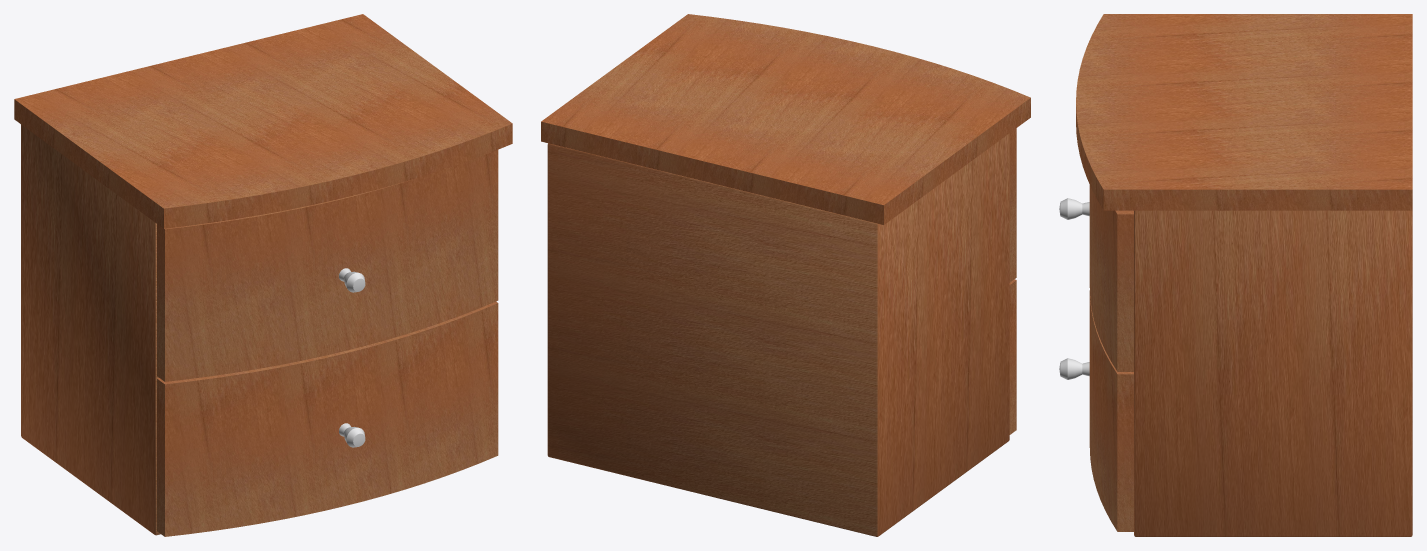
The model's file is recbDRS2QedYmg6DO.glb.
3 renders of one model, left to right at view 1: azimuth 30°, elevation 25°; view 2: azimuth 150°, elevation 25°; view 3: azimuth 270°, elevation 25°, orthographic. The views are drawn at different scales.
Parts seen in each view (by area): view 1: chevet_chambre_etage_1_Corps; view 2: chevet_chambre_etage_1_Corps; view 3: chevet_chambre_etage_1_Corps.
Part boxes in pixels (bbox=[...]): chevet_chambre_etage_1_Corps: bbox=[14, 14, 512, 536]; chevet_chambre_etage_1_Corps: bbox=[541, 14, 1030, 536]; chevet_chambre_etage_1_Corps: bbox=[1059, 14, 1412, 536].
Bounding box in the file's own units: 0.451 × 0.42 × 0.383.
2 materials, 1 textured.
